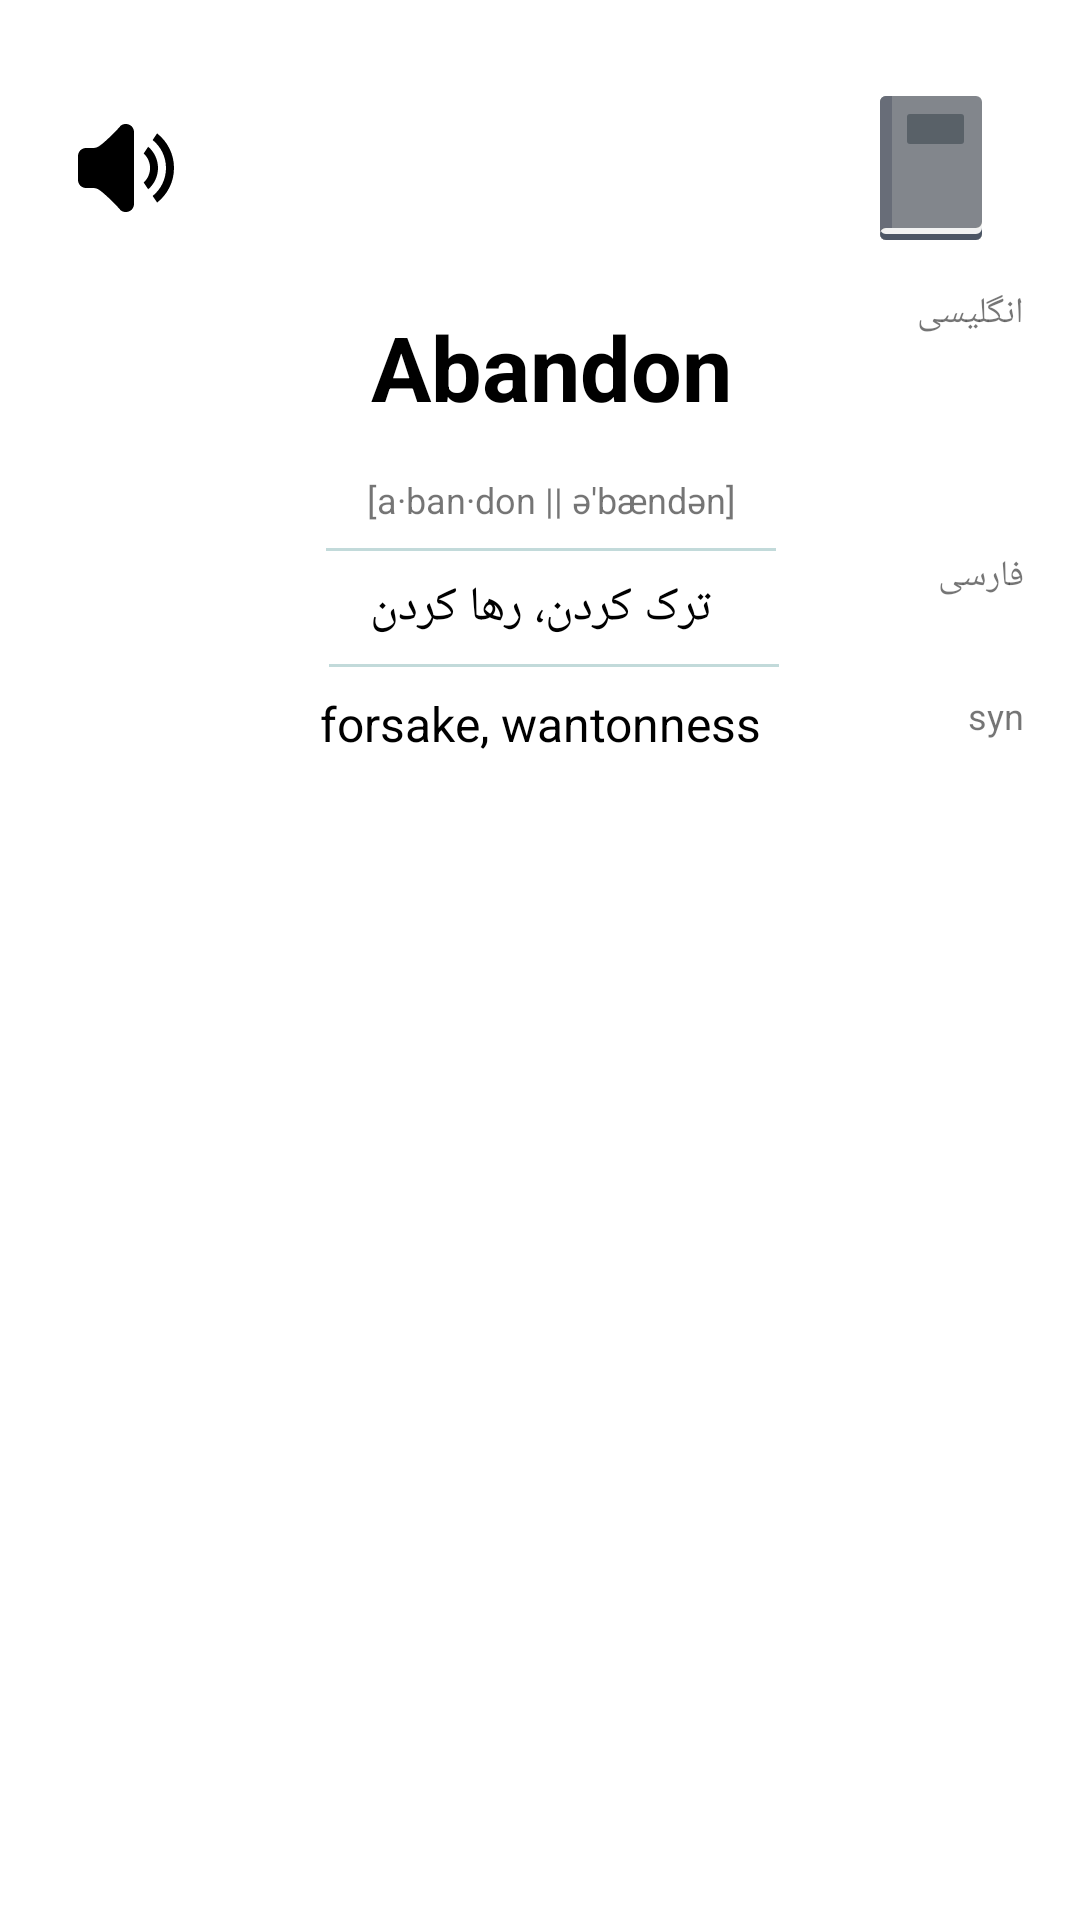

Locate icon controls on the screen. Image size 1080×1920, boxes as (x1, y1, x2, y2).
book notopened: (880, 96, 982, 240)
sound: (78, 124, 174, 212)
